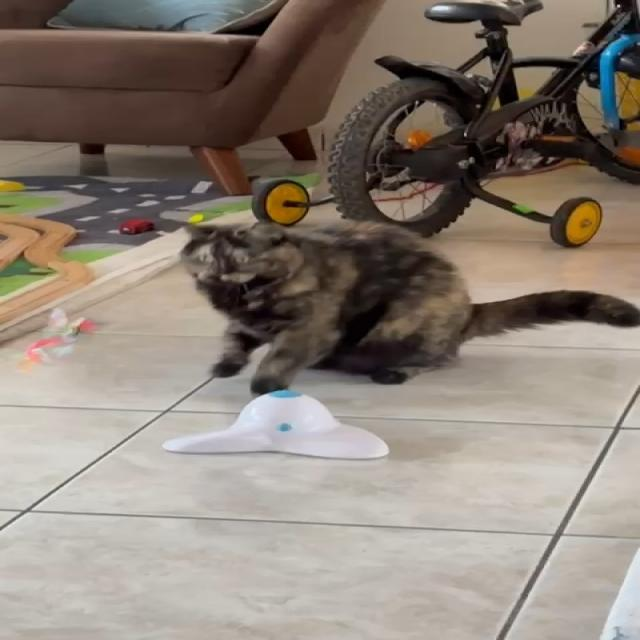authorized: (177, 218, 639, 398)
